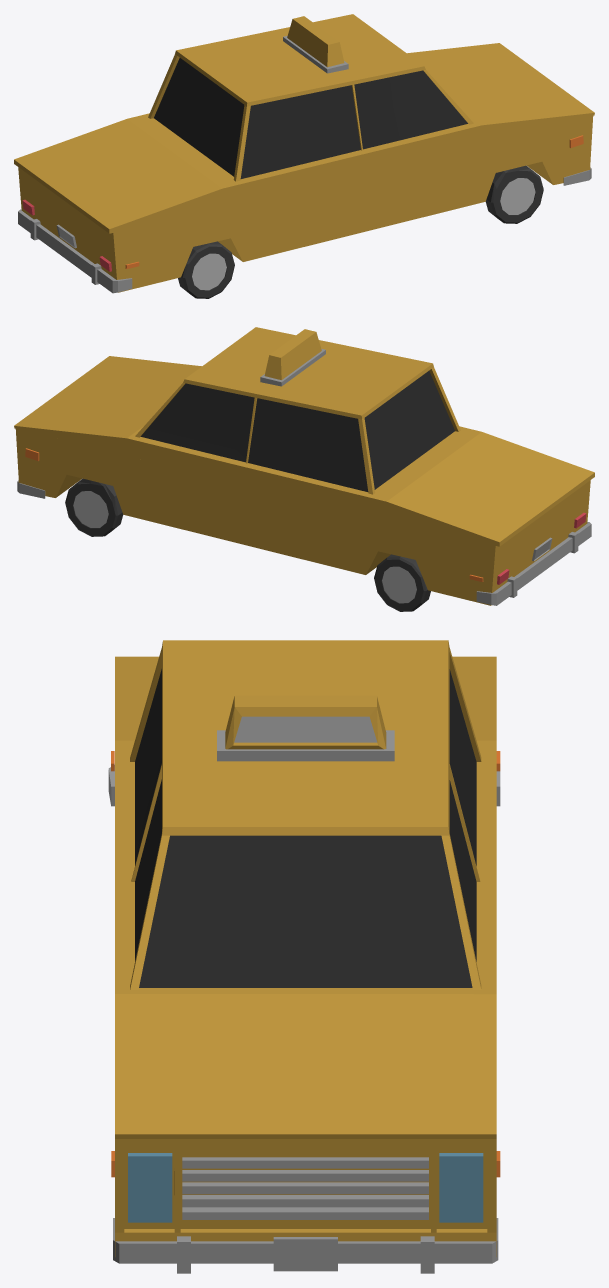
File: Car_taxi.fbx
3 views of the same model, one above another, from view 1: azimuth 30°, elevation 25°; view 2: azimuth 150°, elevation 25°; view 3: azimuth 270°, elevation 25° (orthographic). The views are drawn at different scales.
Parts seen in each view (by area): view 1: Car_taxi; view 2: Car_taxi; view 3: Car_taxi.
Boxes of the visible parts, box(x1,y1,x2,y2) form: Car_taxi: box(14, 14, 594, 298); Car_taxi: box(14, 327, 594, 611); Car_taxi: box(108, 640, 500, 1273).
Size of the model in its own units: 6.32 by 2.46 by 2.2.
